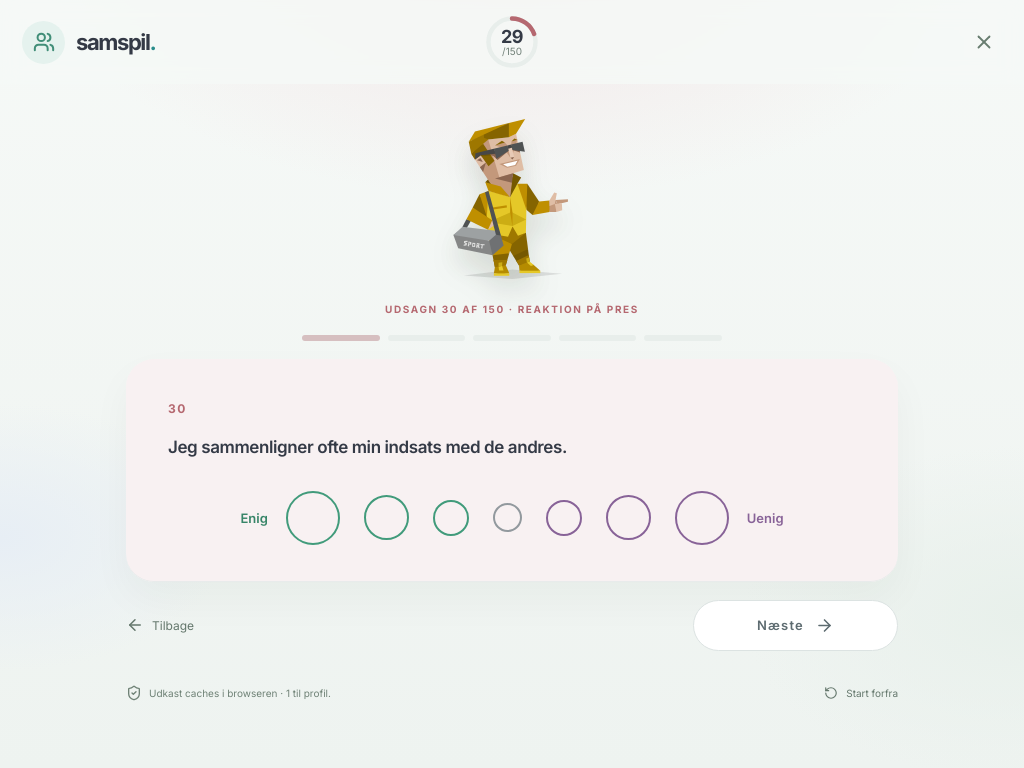
Test case: logget ind springer navnefelt over og gemmer under Auth-navn
This screenshot has width=1024, height=768.
Click the radio button named "Meget uenig". click: [702, 518]
box: [675,491,729,545]
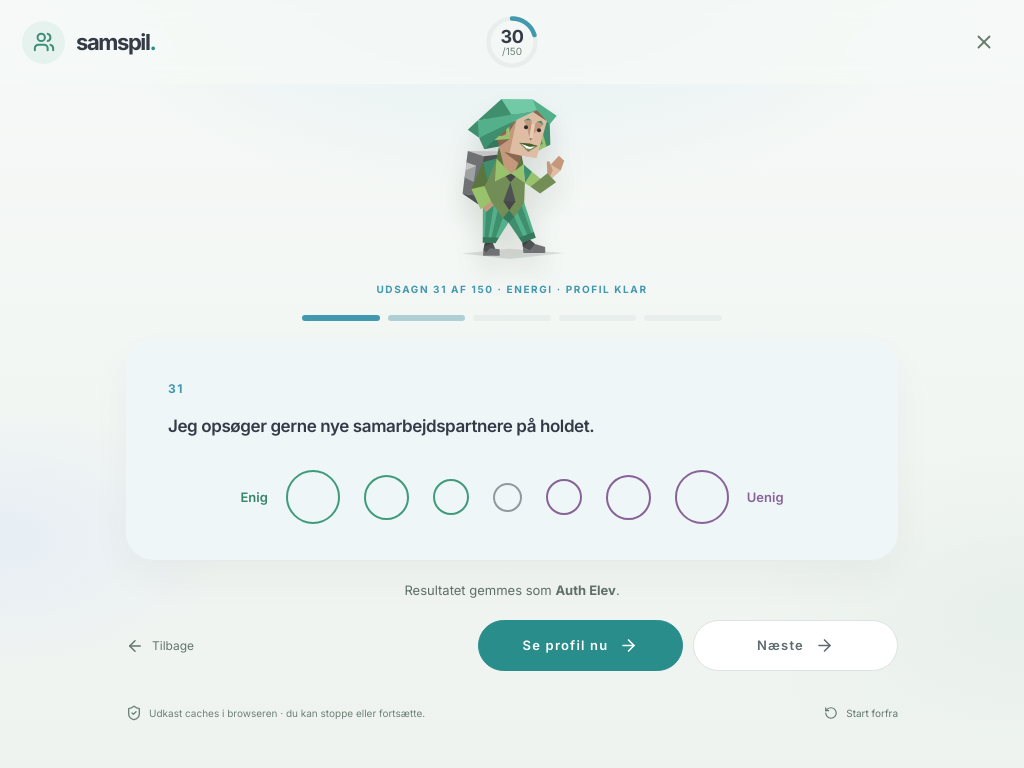
Check: the button "Se profil nu" is shown
Check: the button "Se profil nu" is enabled
Check: the text "Resultatet gemmes som Auth Elev." is shown, box [404,582,620,598]
Click the button "Se profil nu". click: [580, 646]
box: [478,620,683,671]
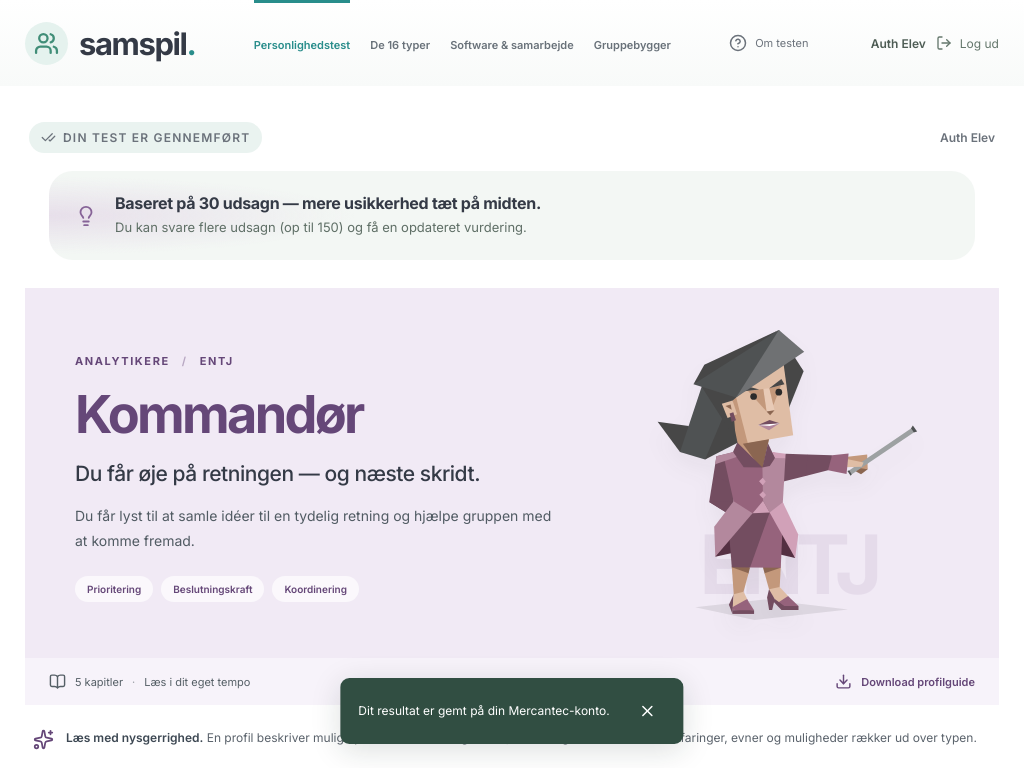
Check: the heading "Kommandør" is shown, box [75,382,363,446]
Check: the text "Auth Elev" next to "Om testen" is shown, box [871,36,926,50]
